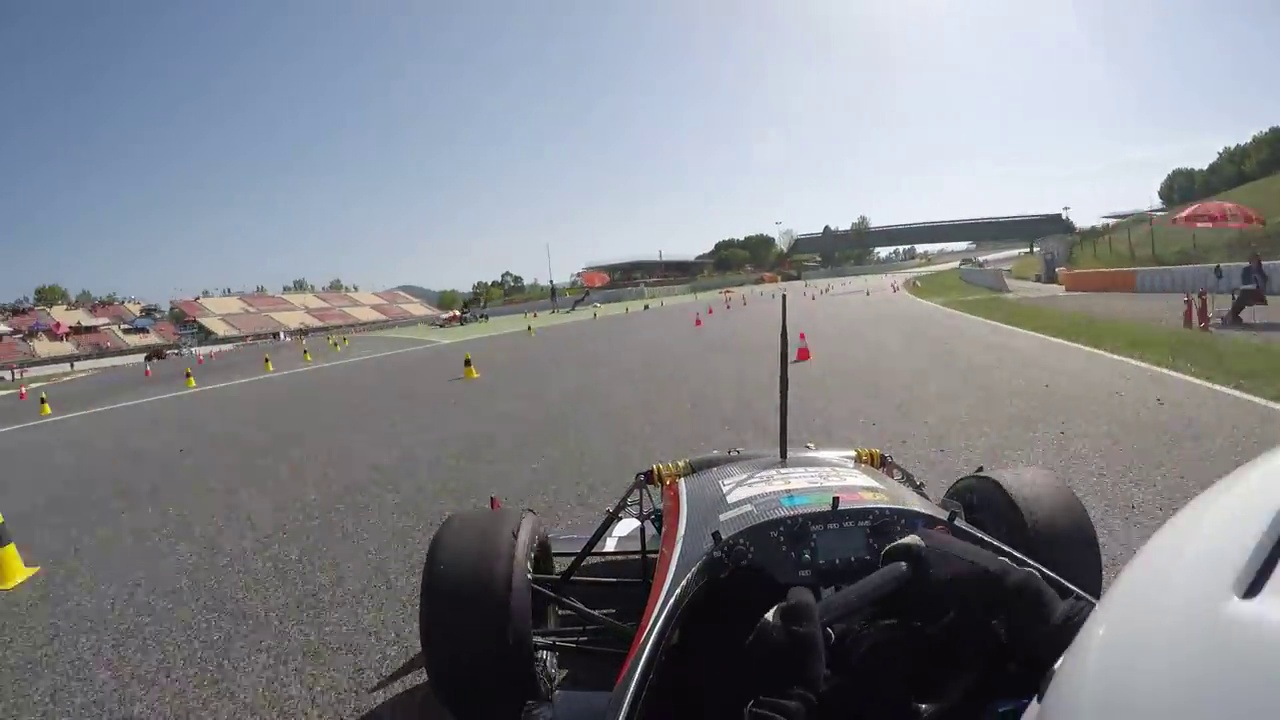Cone: (458, 350, 484, 381), (793, 329, 813, 362)
